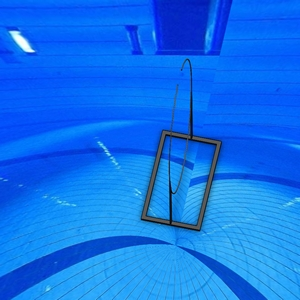circle: (141, 58, 222, 233)
